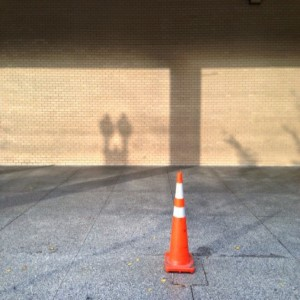traffic cone: (164, 171, 195, 273)
